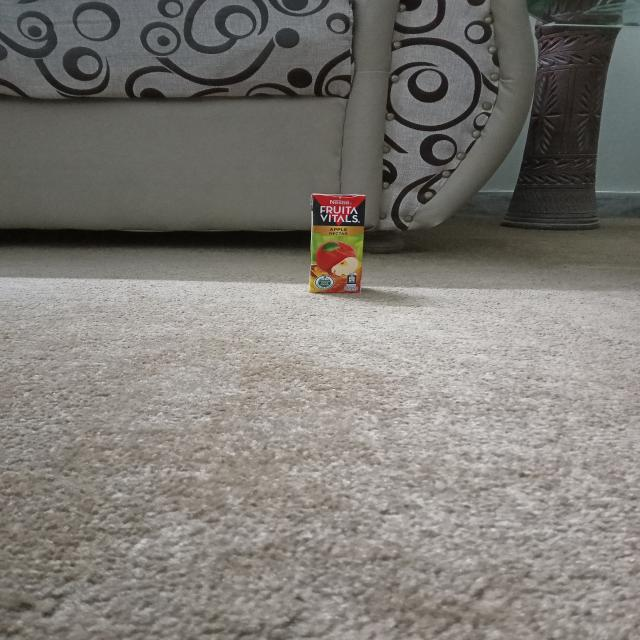Plastic: (306, 188, 370, 298)
